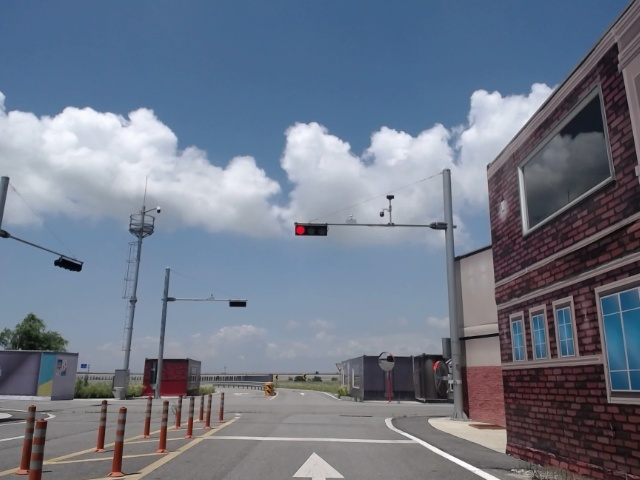red_3: (294, 223, 330, 238)
